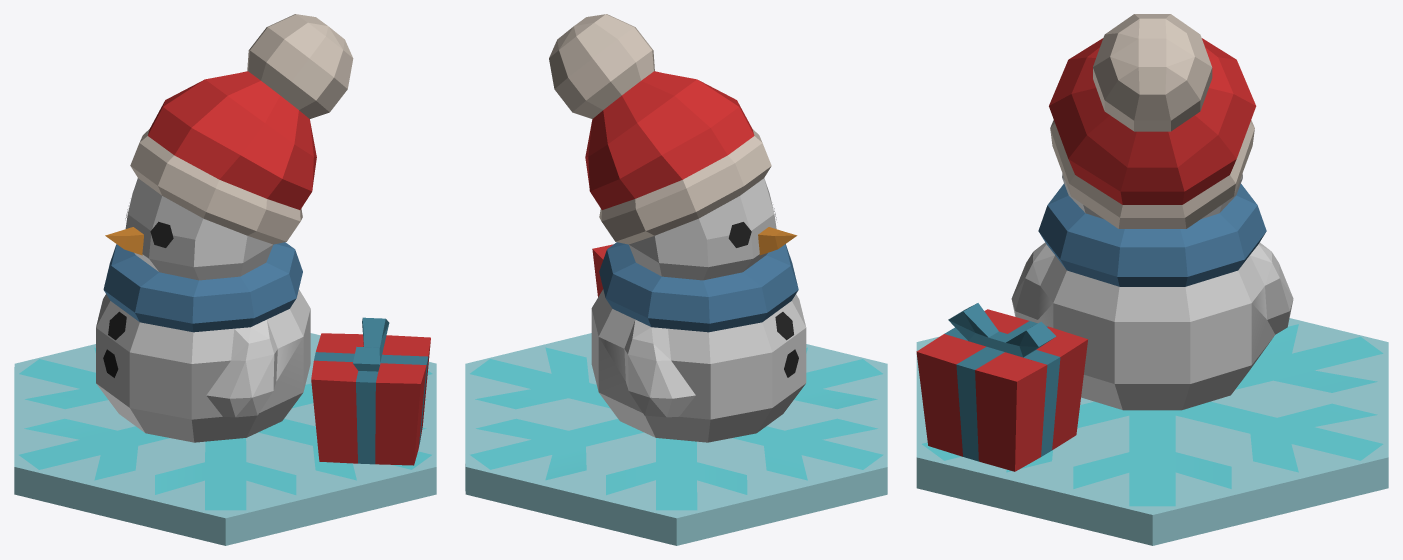
Rendered from 00203_LittleSnowman.fbx.
3 views of the same model, side by side, from view 1: azimuth 30°, elevation 25°; view 2: azimuth 150°, elevation 25°; view 3: azimuth 270°, elevation 25° (orthographic). The views are drawn at different scales.
Parts seen in each view (by area): view 1: snowMan, snowFractal, GiftBox; view 2: snowMan, snowFractal; view 3: snowMan, snowFractal, GiftBox.
Part boxes in pixels (left/top/right/bottom): snowMan: left=96, top=14, right=353, bottom=442; snowFractal: left=14, top=333, right=436, bottom=545; GiftBox: left=311, top=317, right=430, bottom=465; snowMan: left=549, top=14, right=806, bottom=442; snowFractal: left=465, top=333, right=887, bottom=545; snowMan: left=1011, top=14, right=1293, bottom=410; snowFractal: left=916, top=318, right=1388, bottom=545; GiftBox: left=916, top=303, right=1087, bottom=471.
Bounding box in the file's own units: 5.58 × 5.12 × 4.83.
